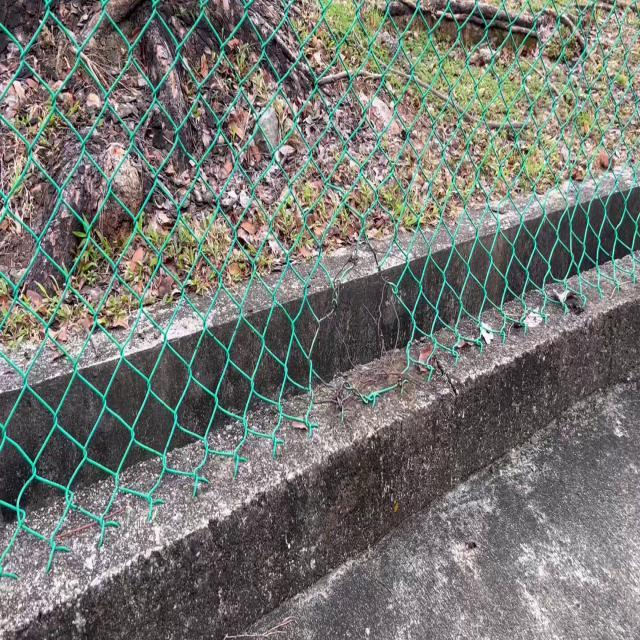fence line: (303, 241, 425, 410)
